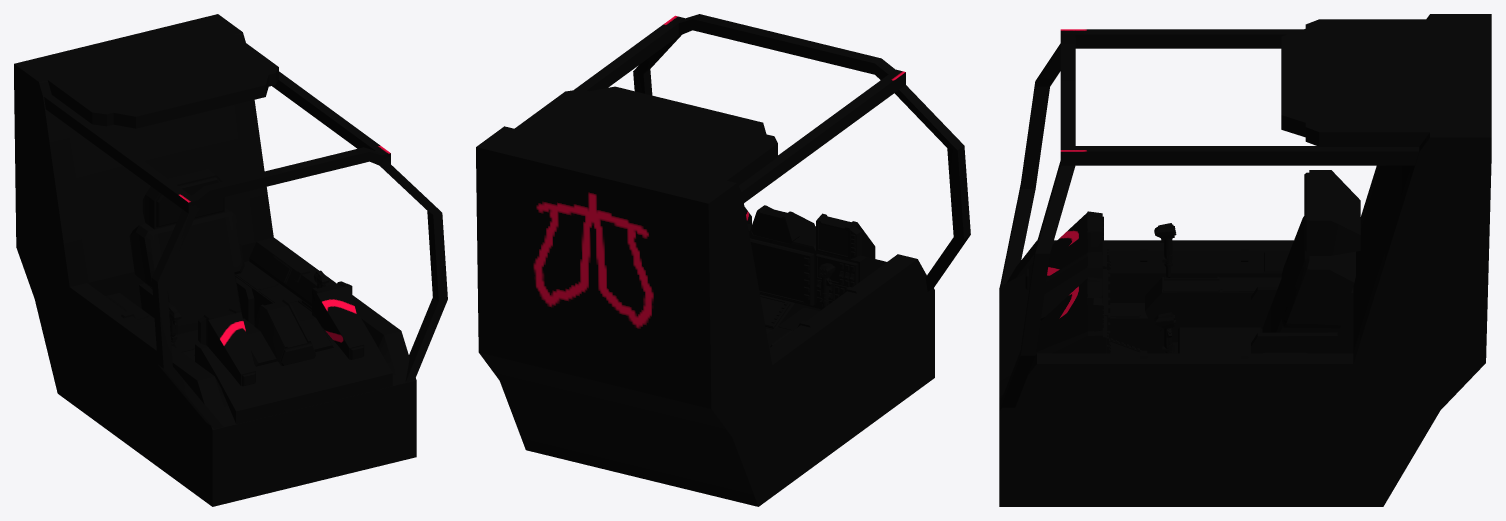
Rendered from gunda.fbx.
3 renders of one model, left to right at view 1: azimuth 30°, elevation 25°; view 2: azimuth 150°, elevation 25°; view 3: azimuth 270°, elevation 25°, orthographic. The views are drawn at different scales.
Visible parts, largest first — view 1: cock; view 2: cock; view 3: cock.
Part boxes in pixels (x1,y1,x2,y2): cock: (14, 14, 447, 506); cock: (476, 14, 970, 506); cock: (999, 14, 1491, 506).
Bounding box in the file's own units: 415 × 422 × 502.
